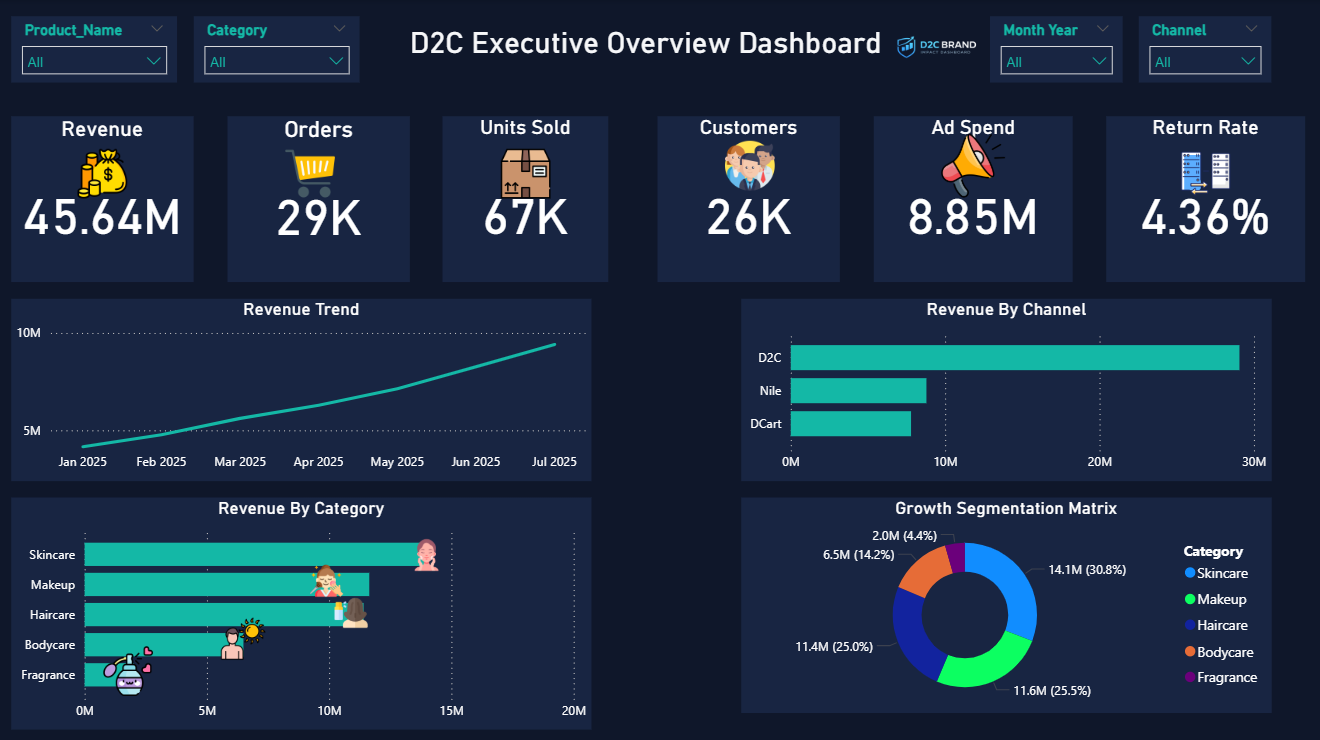

The dashboard page shown, as its layout file describes it:
{"tool":"powerbi","page":{"name":"Executive Dashboard ","canvas":[1280,720],"ordinal":0},"visuals":[{"type":"card","fields":{"Values":["KPI_Measures.Title"]},"box":[0,16,1264,48],"z":0},{"type":"image","box":[720,0,384,96],"z":1000},{"type":"card","title":"Revenue","fields":{"Values":["KPI_Measures.Revenue"]},"box":[16,112,176,160],"z":2000},{"type":"card","title":"Orders","fields":{"Values":["KPI_Measures.Orders"]},"box":[224,112,176,160],"z":3000},{"type":"card","title":"Units Sold","fields":{"Values":["KPI_Measures.Units Sold"]},"box":[432,112,160,160],"z":4000},{"type":"card","title":"Customers","fields":{"Values":["KPI_Measures.Customers"]},"box":[640,112,176,160],"z":5000},{"type":"card","title":"Ad Spend","fields":{"Values":["KPI_Measures.Ad Spend"]},"box":[848,112,192,160],"z":6000},{"type":"card","title":"Return Rate","fields":{"Values":["KPI_Measures.Return Rate %"]},"box":[1072,112,192,160],"z":7000},{"type":"lineChart","title":"Revenue Trend","fields":{"Y":["KPI_Measures.Revenue"],"Category":["Dim_Date.Month Year"]},"box":[16,288,560,176],"z":8000},{"type":"clusteredBarChart","title":"Revenue By Category","fields":{"Category":["Fact_All_Sales.Category"],"Y":["KPI_Measures.Revenue"]},"box":[16,480,560,224],"z":9000},{"type":"clusteredBarChart","title":"Revenue By Channel","fields":{"Category":["Fact_All_Sales.Channel"],"Y":["KPI_Measures.Revenue"]},"box":[720,288,512,176],"z":10000},{"type":"donutChart","title":"Growth Segmentation Matrix","fields":{"Y":["KPI_Measures.Revenue"],"Category":["Fact_All_Sales.Category"]},"box":[720,480,512,208],"z":11000},{"type":"slicer","fields":{"Values":["Dim_Date.Month Year"]},"box":[960,16,128,64],"z":12000},{"type":"slicer","fields":{"Values":["Fact_All_Sales.Category"]},"box":[192,16,160,64],"z":13000},{"type":"slicer","fields":{"Values":["Dim_Product.Product_Name"]},"box":[16,16,160,64],"z":14000},{"type":"slicer","fields":{"Values":["Fact_All_Sales.Channel"]},"box":[1104,16,128,64],"z":15000},{"type":"image","box":[80,144,48,48],"z":16000},{"type":"image","box":[240,144,128,48],"z":17000},{"type":"image","box":[704,128,48,64],"z":18000},{"type":"image","box":[480,144,64,48],"z":19000},{"type":"image","box":[912,128,64,64],"z":20000},{"type":"image","box":[1136,144,64,48],"z":21000},{"type":"image","box":[320,576,48,32],"z":22000},{"type":"image","box":[400,512,32,48],"z":23000},{"type":"image","box":[304,528,32,64],"z":24000},{"type":"image","box":[208,592,64,48],"z":25000},{"type":"image","box":[96,624,64,48],"z":26000}]}

Visuals, with their boxes in screenshot pixels (x1, y1, x2, y2), scaled from the page's 1280x720 canvas onto the 1320x740 screenshot:
card - KPI_Measures.Title: 0/16/1304/66
image: 742/0/1138/99
"Revenue" card: 16/115/198/280
"Orders" card: 231/115/412/280
"Units Sold" card: 446/115/610/280
"Customers" card: 660/115/842/280
"Ad Spend" card: 874/115/1072/280
"Return Rate" card: 1106/115/1304/280
"Revenue Trend" lineChart: 16/296/594/477
"Revenue By Category" clusteredBarChart: 16/493/594/724
"Revenue By Channel" clusteredBarChart: 742/296/1270/477
"Growth Segmentation Matrix" donutChart: 742/493/1270/707
slicer - Dim_Date.Month Year: 990/16/1122/82
slicer - Fact_All_Sales.Category: 198/16/363/82
slicer - Dim_Product.Product_Name: 16/16/182/82
slicer - Fact_All_Sales.Channel: 1138/16/1270/82
image: 82/148/132/197
image: 248/148/380/197
image: 726/132/776/197
image: 495/148/561/197
image: 940/132/1006/197
image: 1172/148/1238/197
image: 330/592/380/625
image: 412/526/446/576
image: 314/543/346/608
image: 214/608/280/658
image: 99/641/165/691
